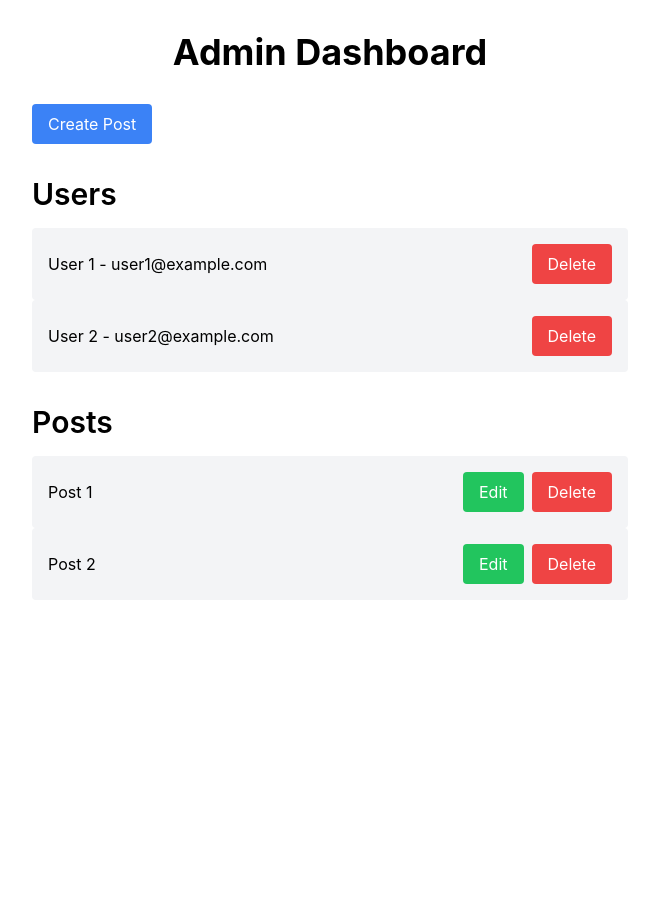
Scenario: <AdminDashboard /> › deletes a user
Click the button "Delete" in the row of "User 1": (573, 264) [532,244,613,284]
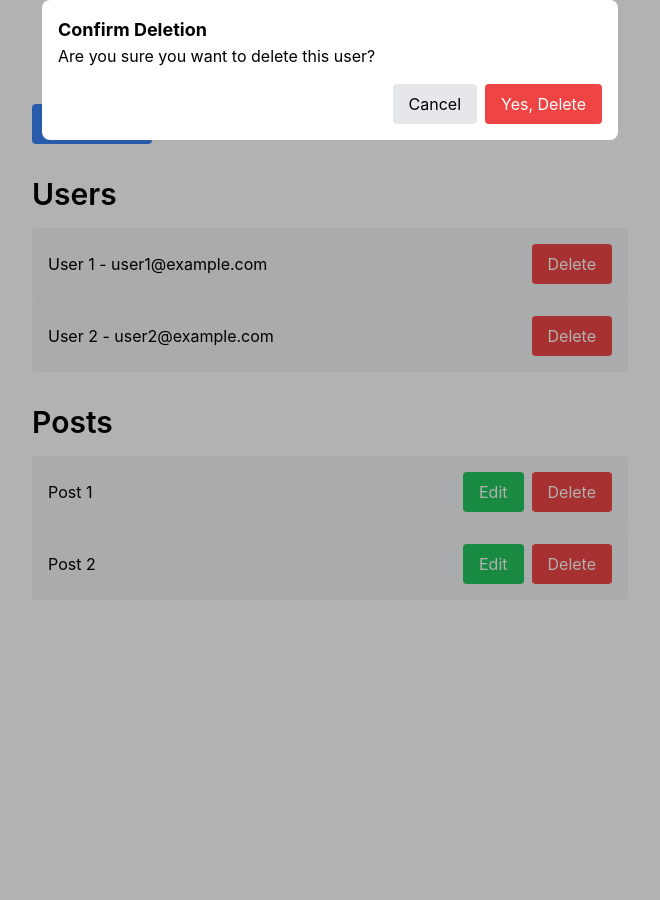
Click the button "Yes, Delete": (544, 104) [485,84,602,124]
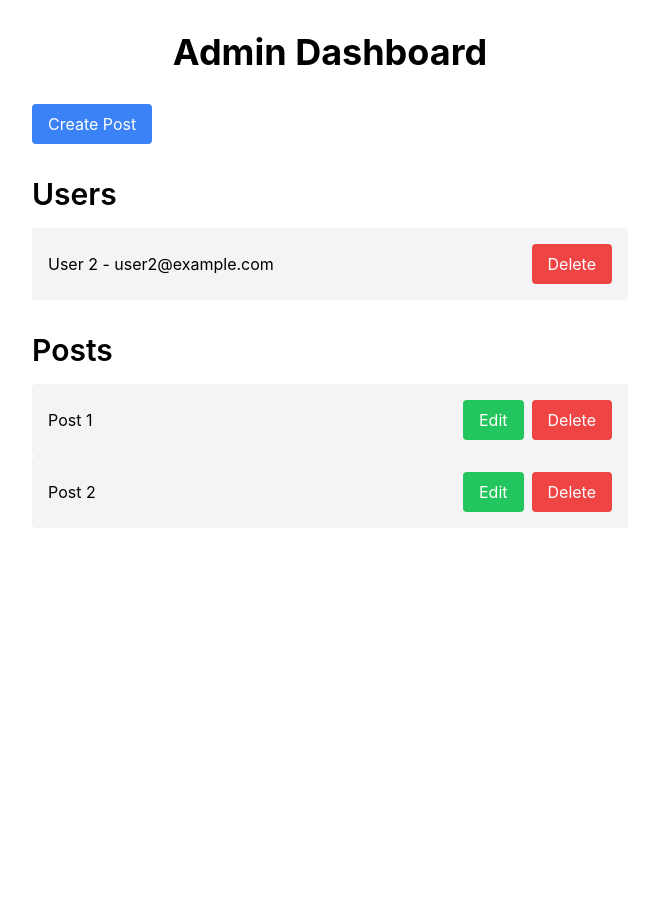
Check: the text "User 1" is gone
